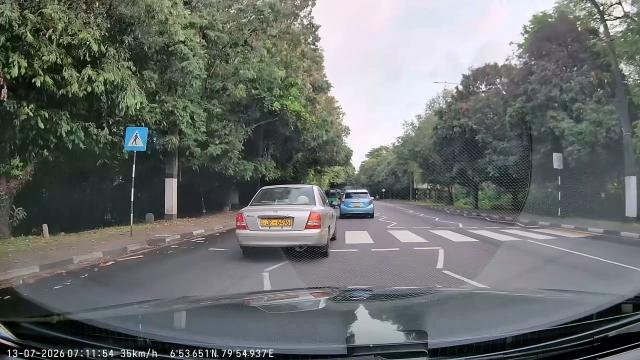number plate: (256, 216, 297, 230)
